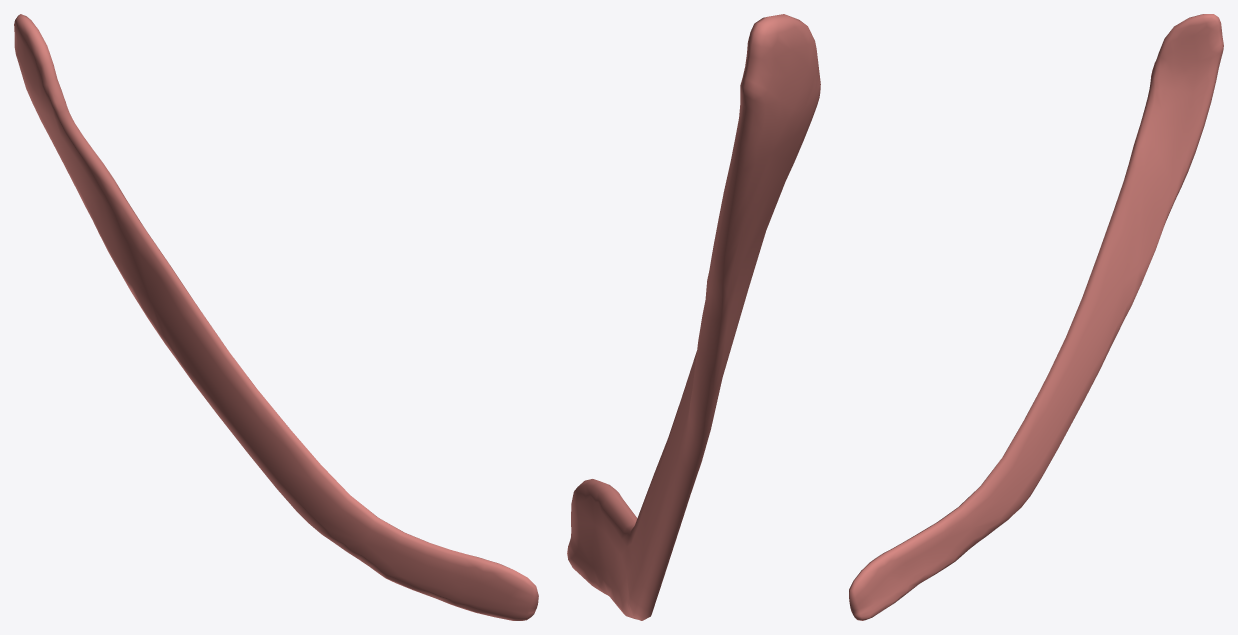
3 views of the same model, side by side, from view 1: azimuth 30°, elevation 25°; view 2: azimuth 150°, elevation 25°; view 3: azimuth 270°, elevation 25° (orthographic). The views are drawn at different scales.
Parts seen in each view (by area): view 1: ZA_094758868279be2d; view 2: ZA_094758868279be2d; view 3: ZA_094758868279be2d.
Part boxes in pixels (x1=…): ZA_094758868279be2d: x1=14, y1=14, x2=538, y2=620; ZA_094758868279be2d: x1=567, y1=14, x2=820, y2=620; ZA_094758868279be2d: x1=849, y1=14, x2=1223, y2=620.
Bounding box in the file's own units: 0.0119 × 0.0191 × 0.0136.
